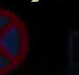No Stopping: (0, 1, 33, 70)
